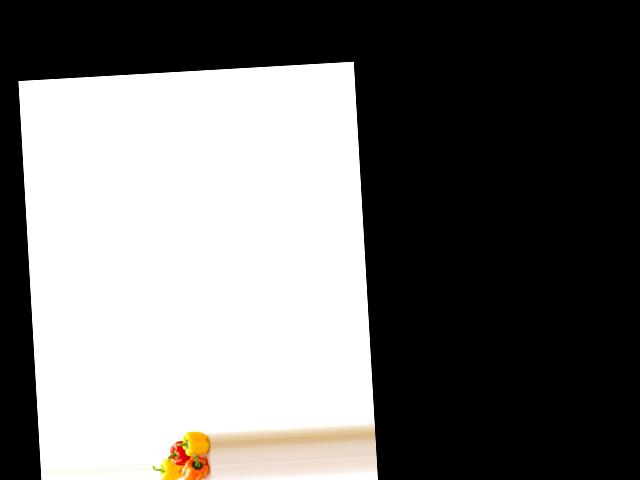bell_pepper: (177, 429, 211, 464)
